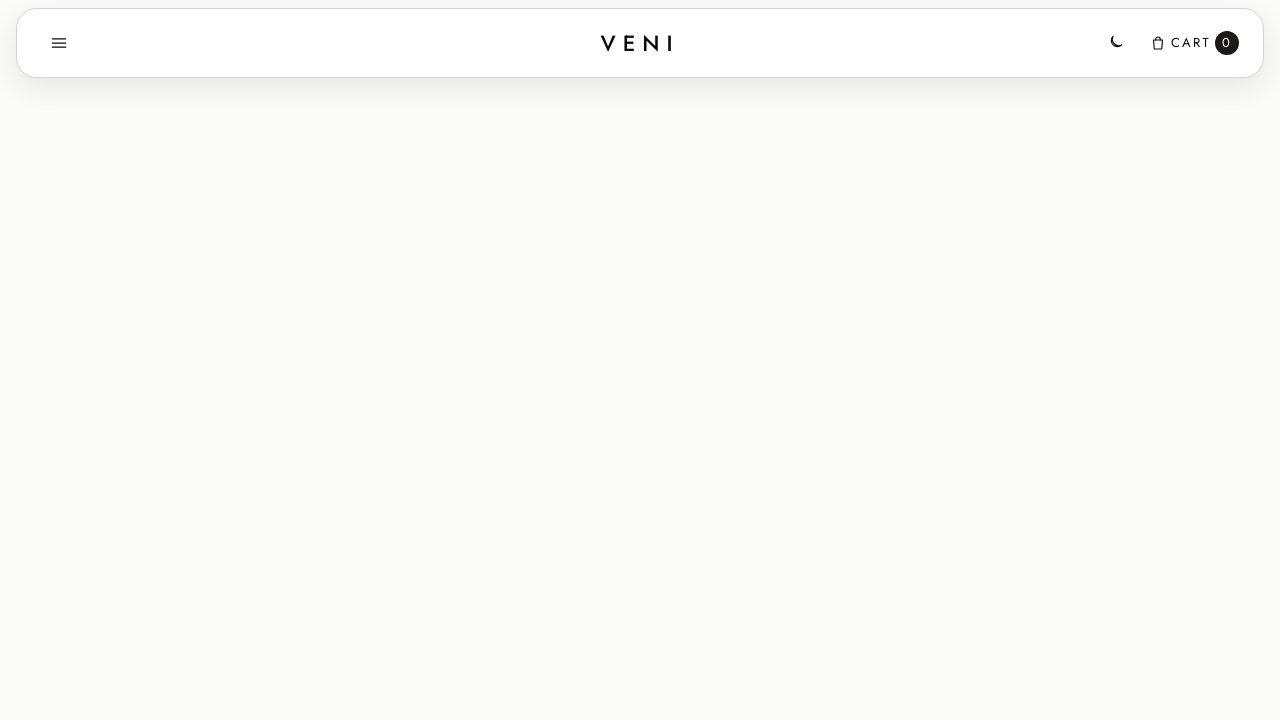
it: Header › navigates to the start of all products from the tray
(page scrolled)
Click the button named "menu" at point(59, 43), box [41,25,77,61]
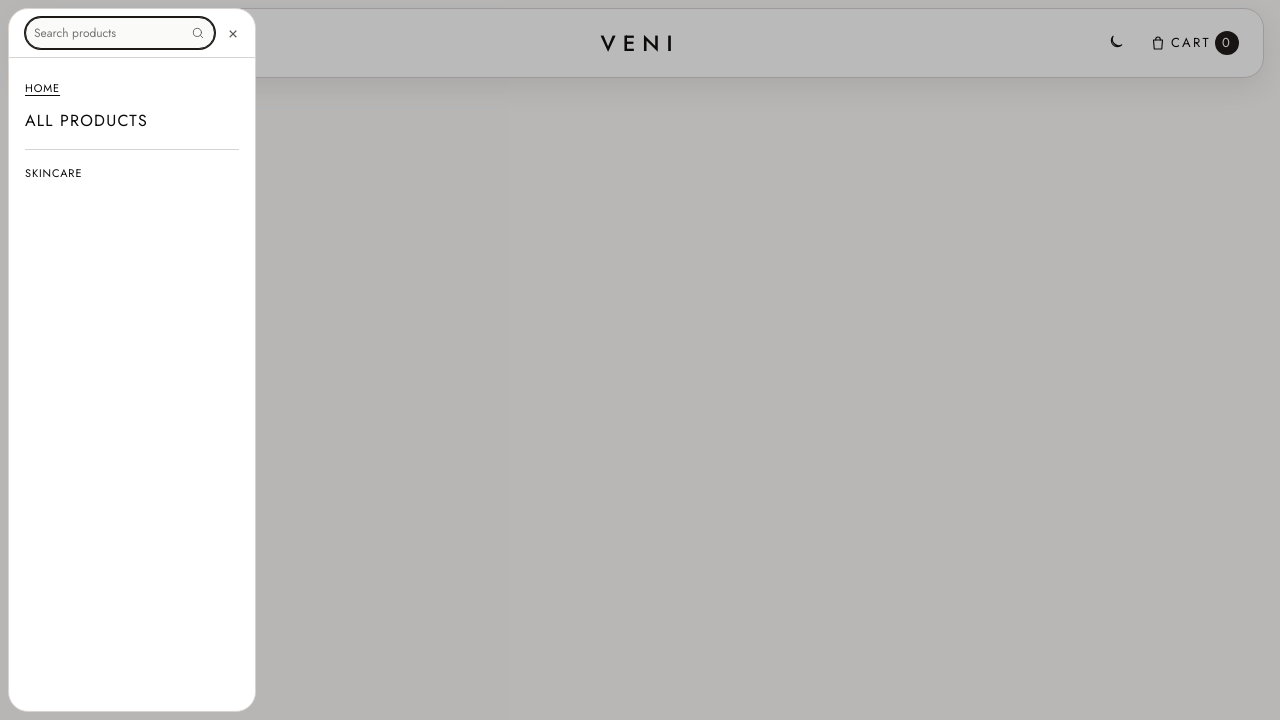
Click the button "All products" at point(132, 121), box [25,104,239,139]
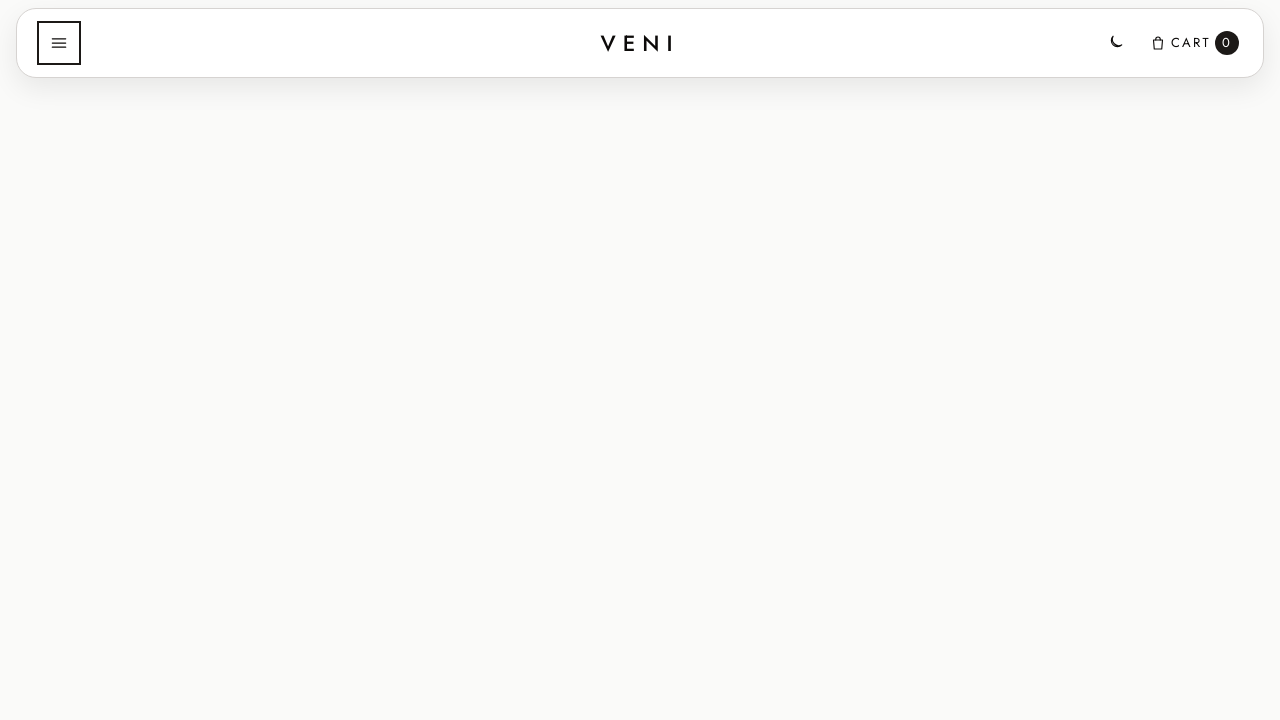
Check: the dialog is gone
